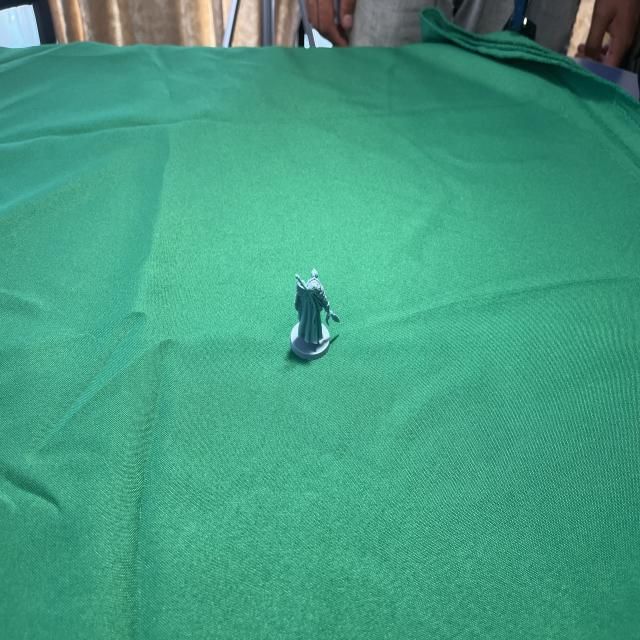isis_follower: (280, 262, 342, 361)
